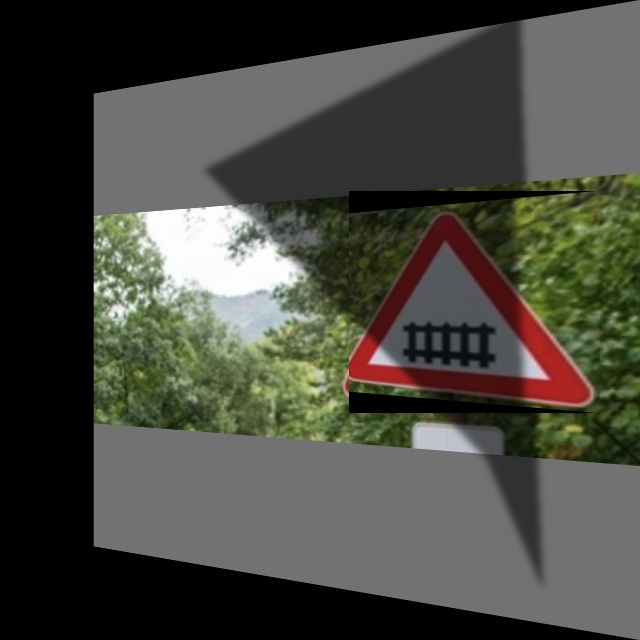Guarded_Level_Crossing: (349, 191, 597, 413)
